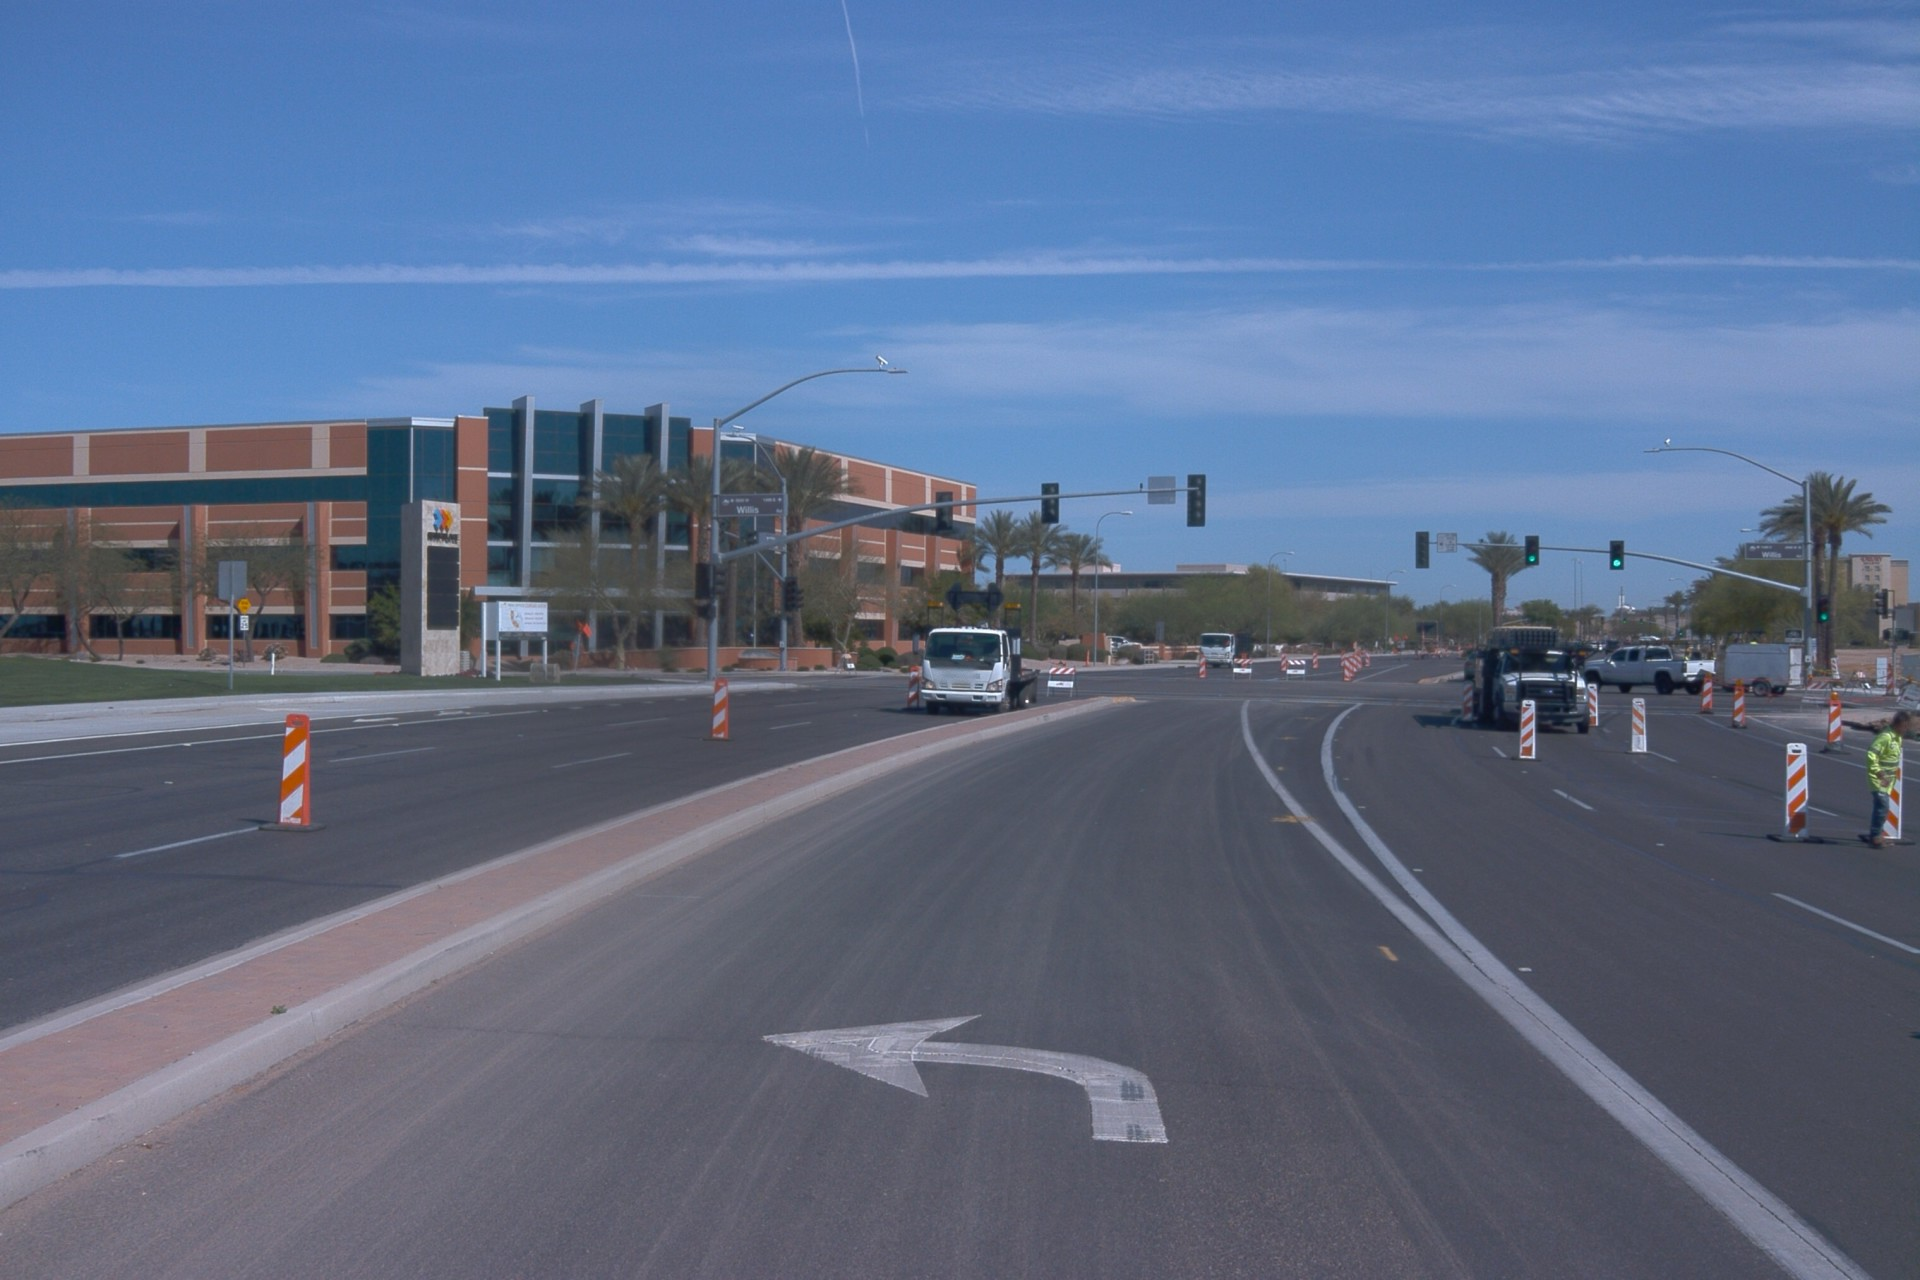TYPE_PEDESTRIAN: (1857, 712, 1912, 849)
TYPE_VEHICLE: (1468, 623, 1597, 740), (920, 620, 1051, 720), (1578, 639, 1719, 699), (1711, 640, 1808, 703), (1197, 630, 1257, 672), (1106, 633, 1145, 658), (1462, 651, 1487, 681), (1601, 638, 1624, 656), (1589, 640, 1606, 654)
